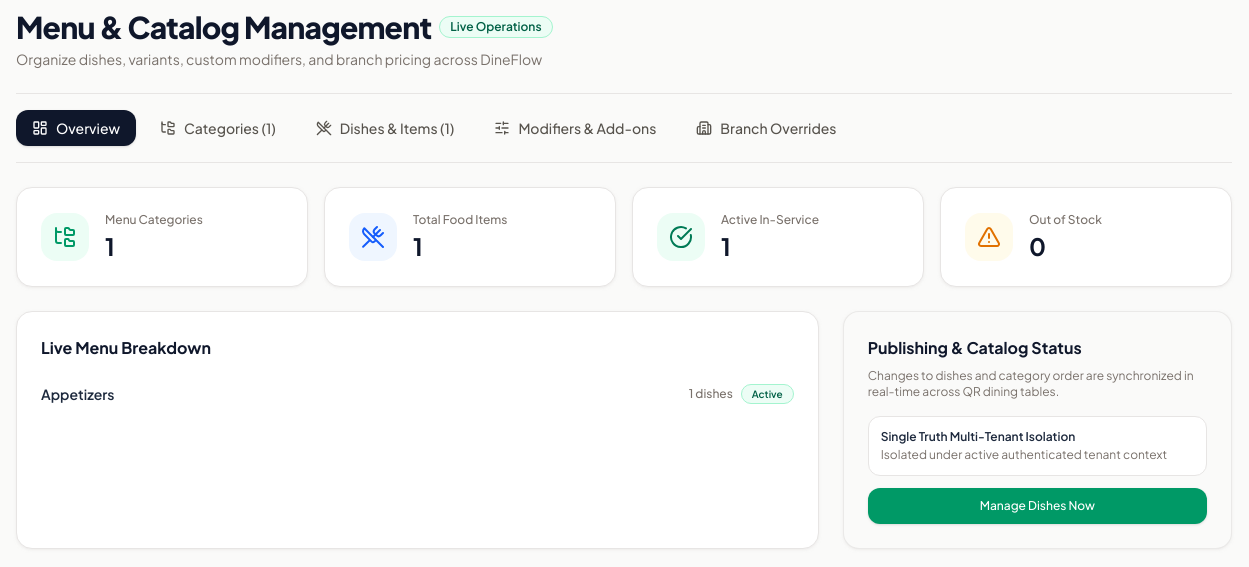
Test case: MenuManagementPage Dashboard & Catalog UI › switches to Dishes & Items tab and renders item list with filters
What coordinates should you click on to do the following:
click the button "Dishes & Items (1)"
I would click on:
 (385, 128)
Its box is [300, 110, 470, 146].
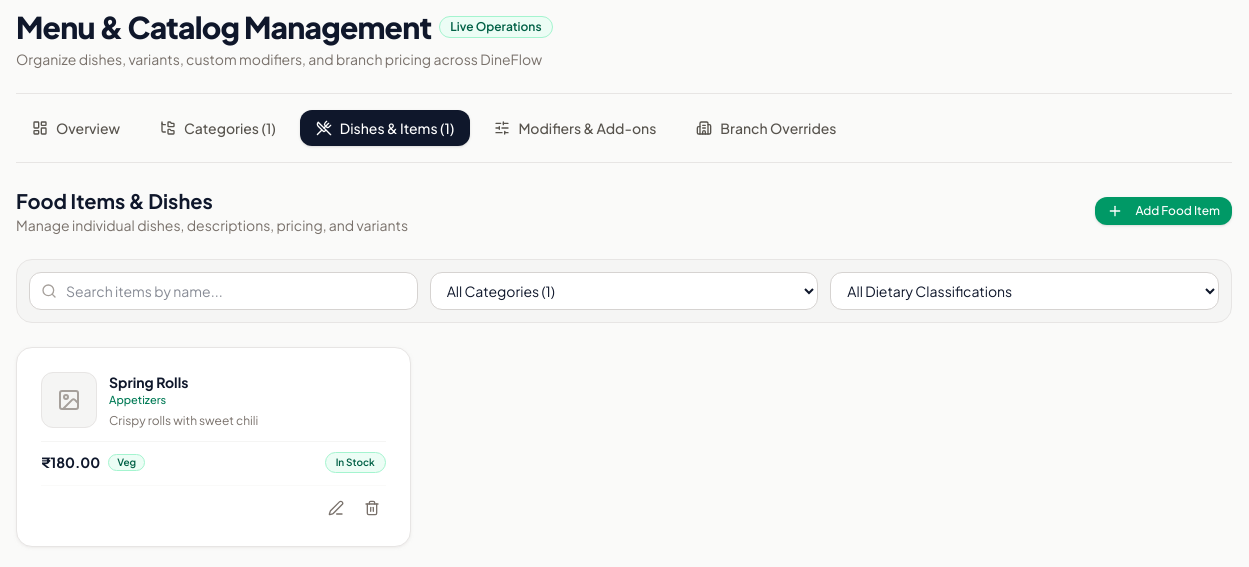
Check: the heading "Food Items & Dishes" is shown, box [16, 188, 213, 213]
Check: the field with placeholder "Search items by name..." is shown, box [29, 272, 418, 310]
Check: the heading "Spring Rolls" is shown, box [109, 372, 188, 392]
